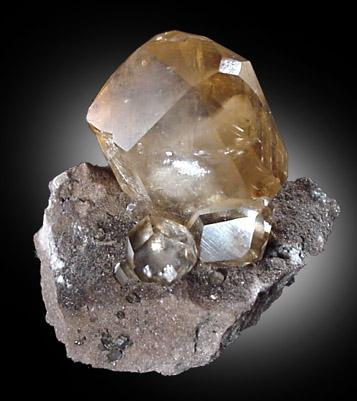calcite: (87, 31, 288, 286)
